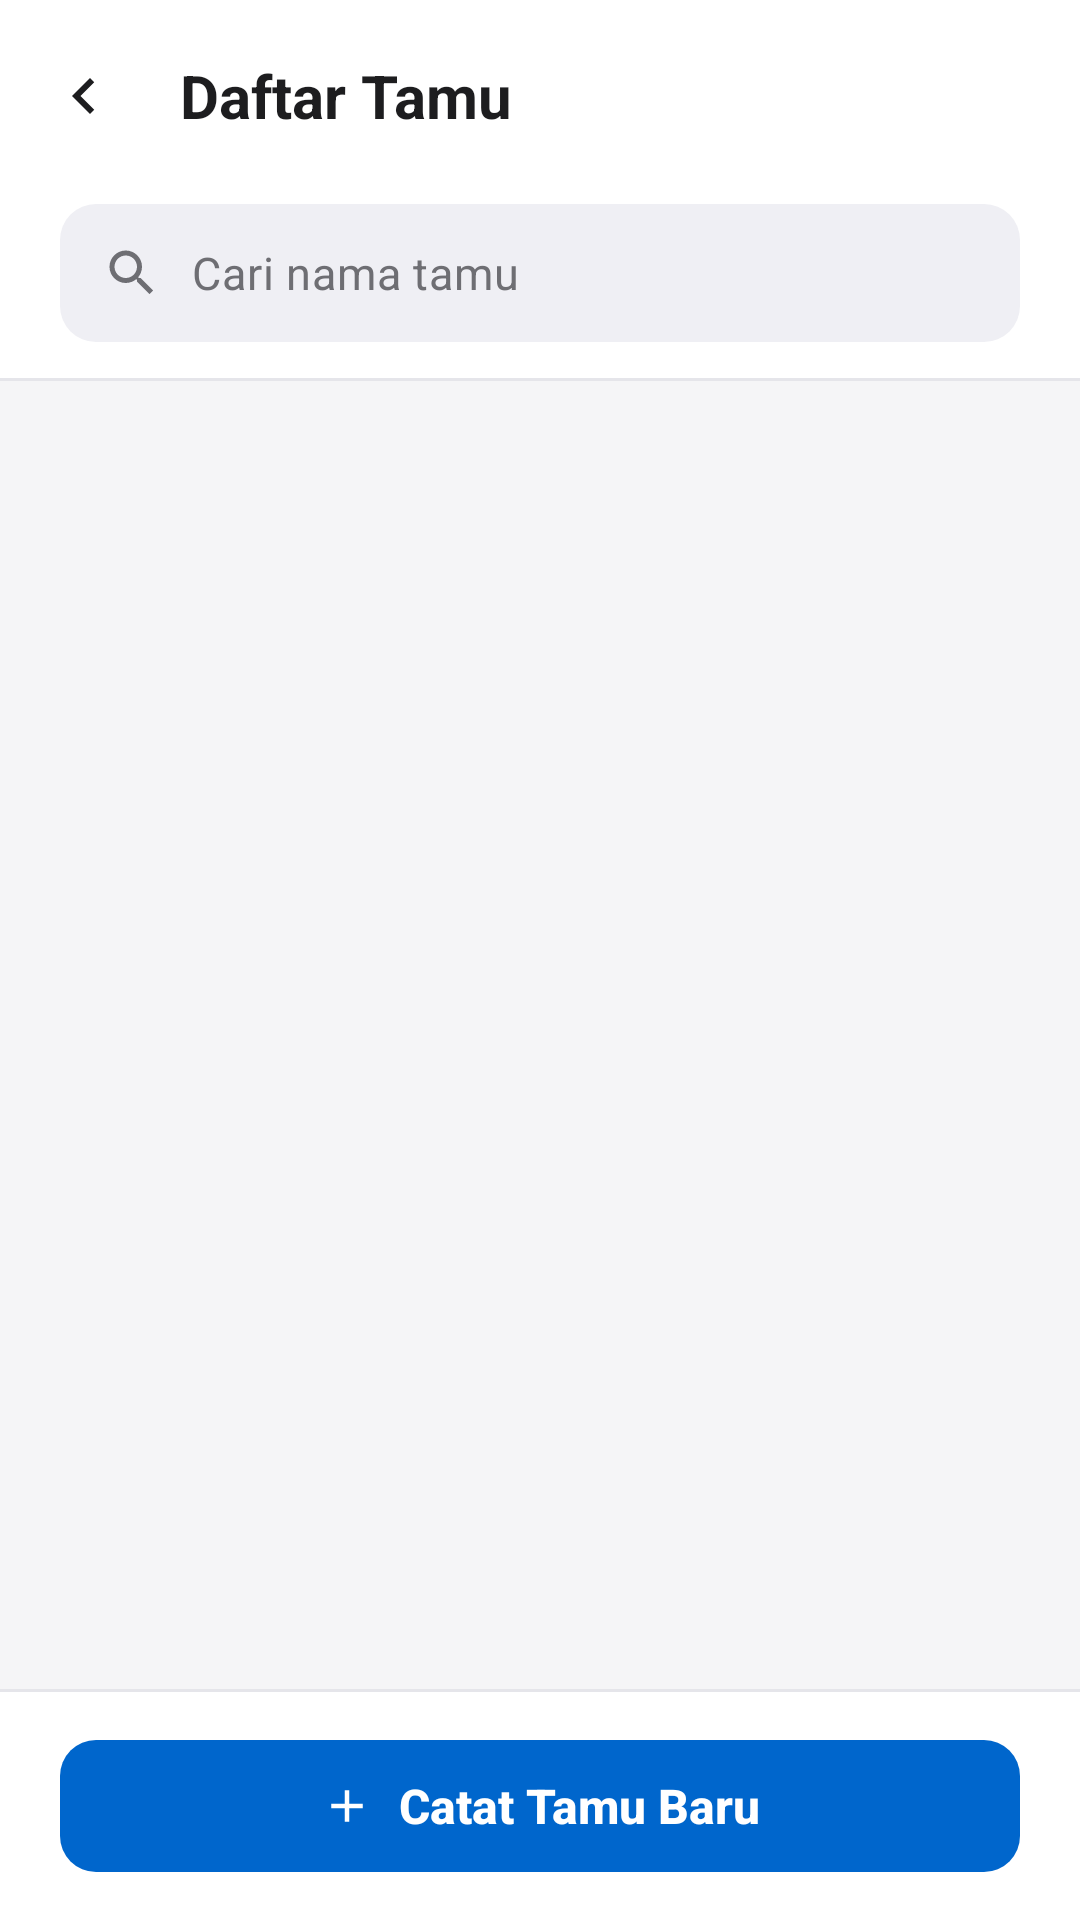

Screen size 1080x1920. Icon name, then its box in pixels as [left=x1, top=y1, right=x2, bottom=y2]:
search: [left=109, top=250, right=153, bottom=294]
